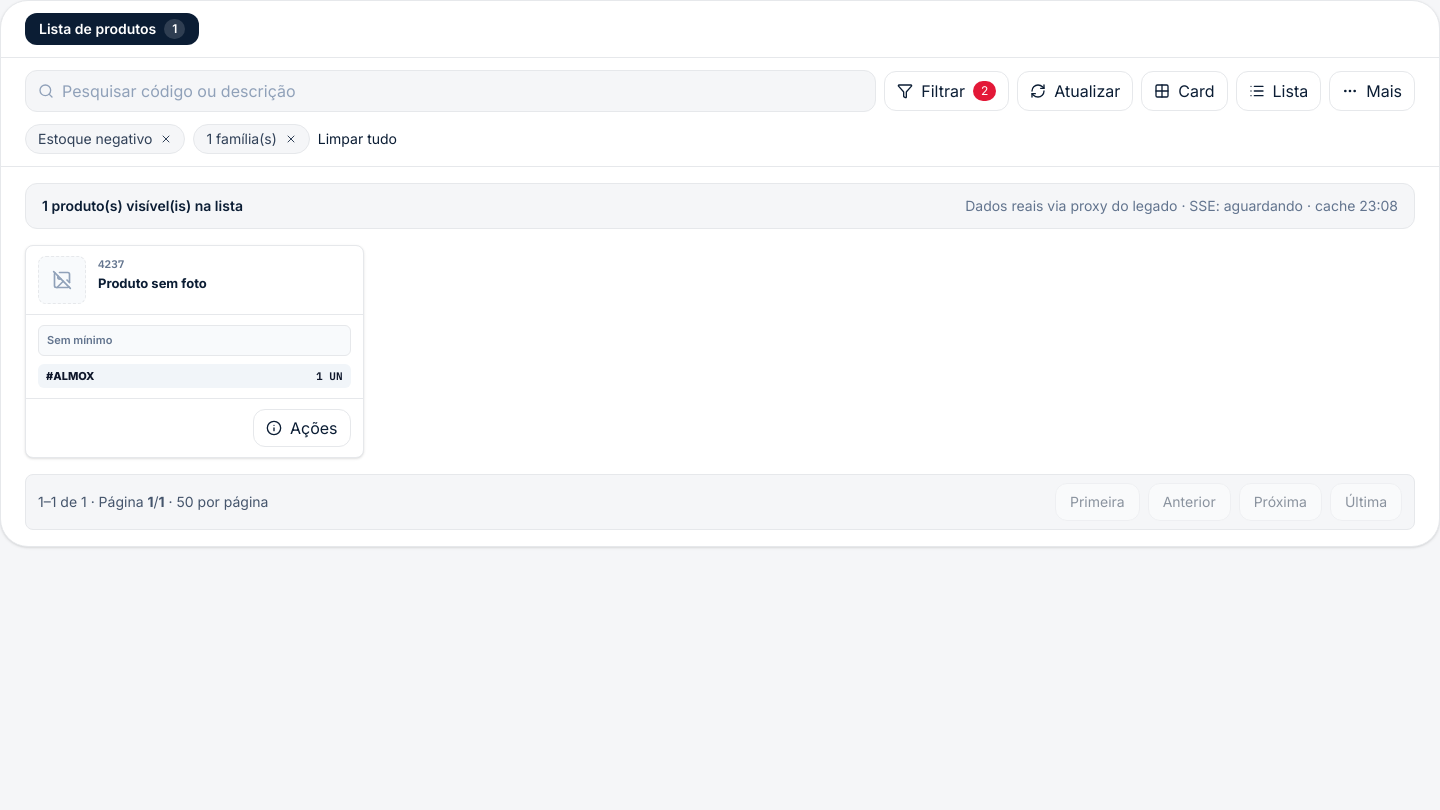
Scenario: ProductListScreen › clears draft filters without mutating applied filters before confirmation
Click the button with aria-label "filtrar produtos" at (947, 91), box x1=884 y1=71 x2=1009 y2=111
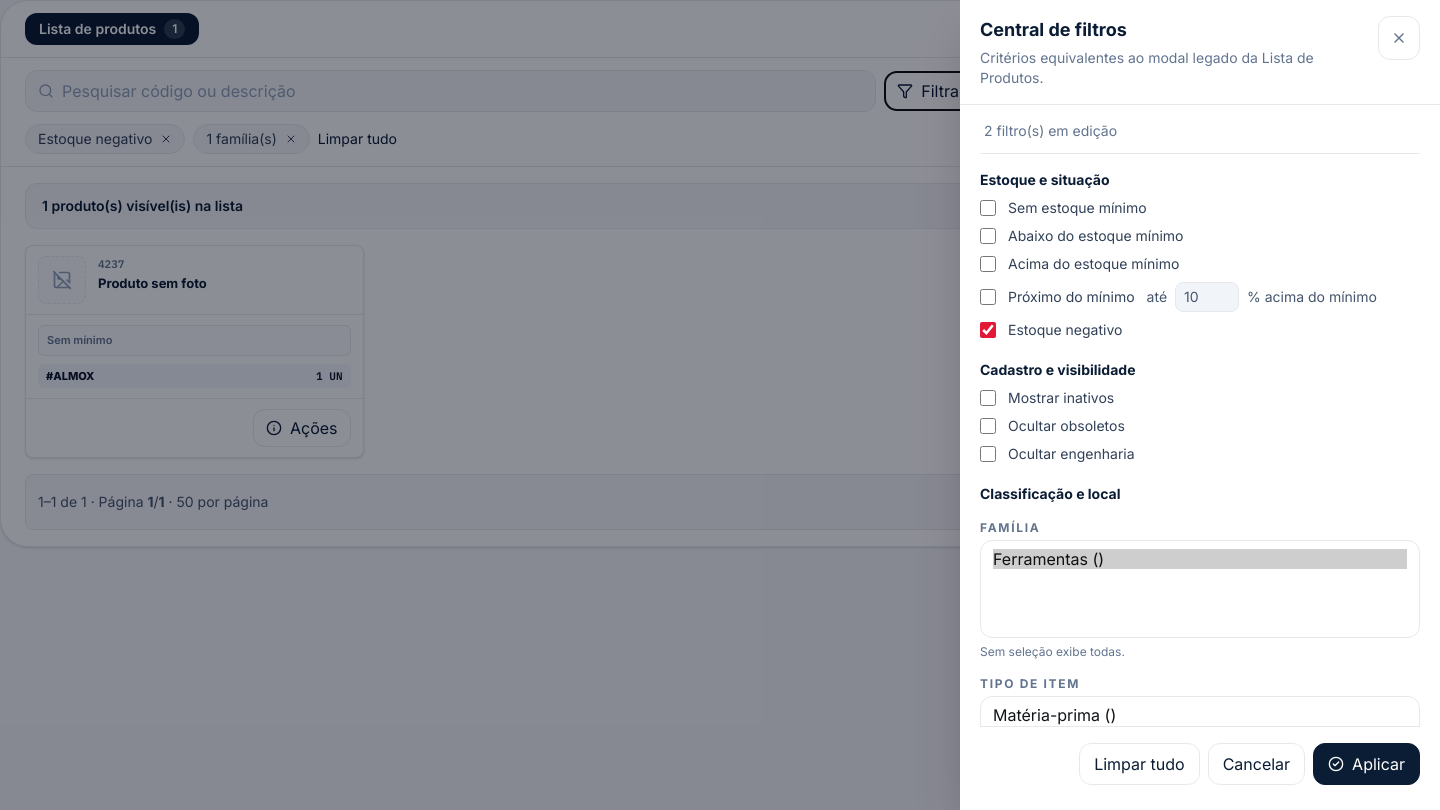
Click the button "Limpar tudo" at (1139, 764), box x1=1079 y1=743 x2=1200 y2=785
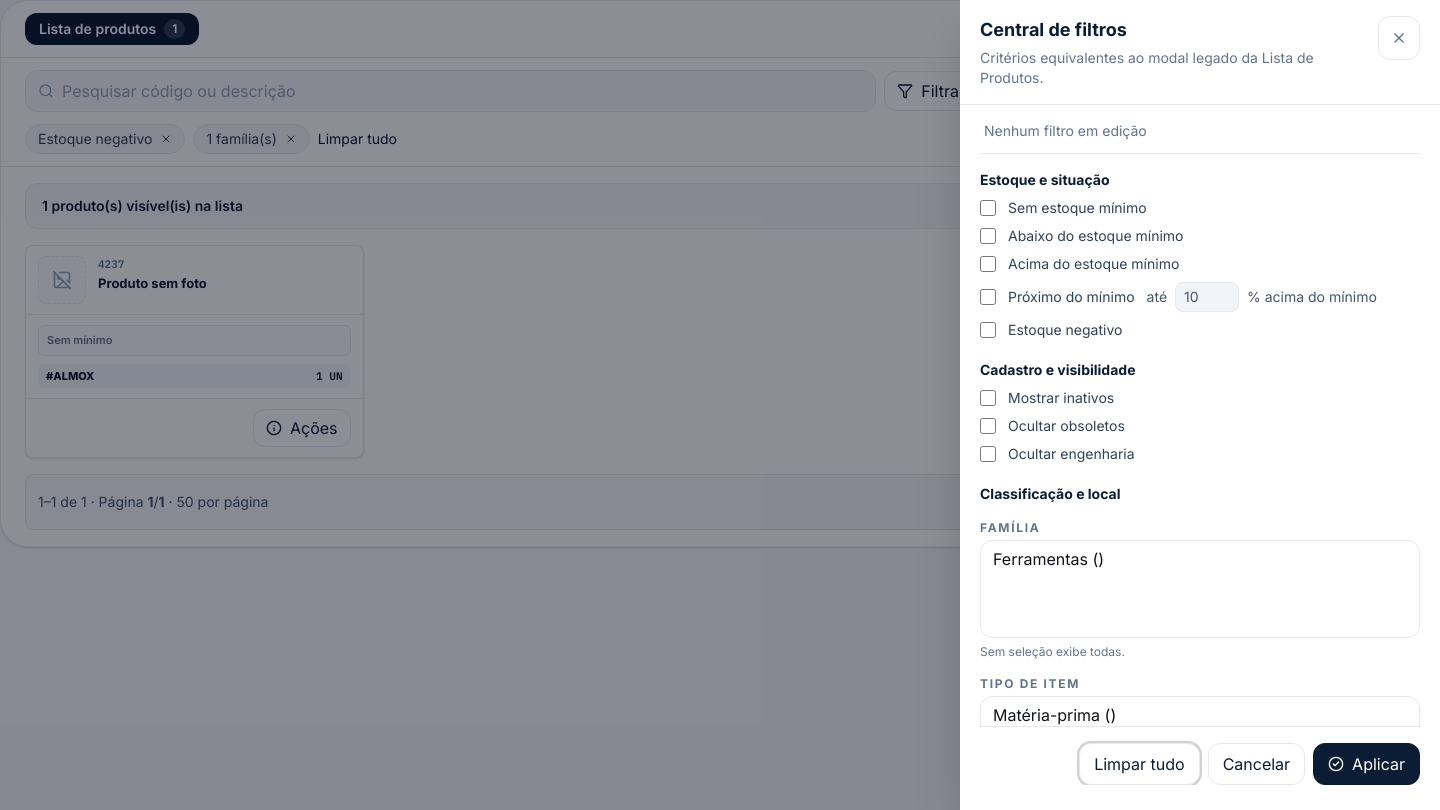
Result: the checkbox labelled "Estoque negativo" is not checked at x1=980 y1=322 x2=996 y2=338
Click the button "Cancelar" at (1256, 764), box x1=1208 y1=743 x2=1305 y2=785
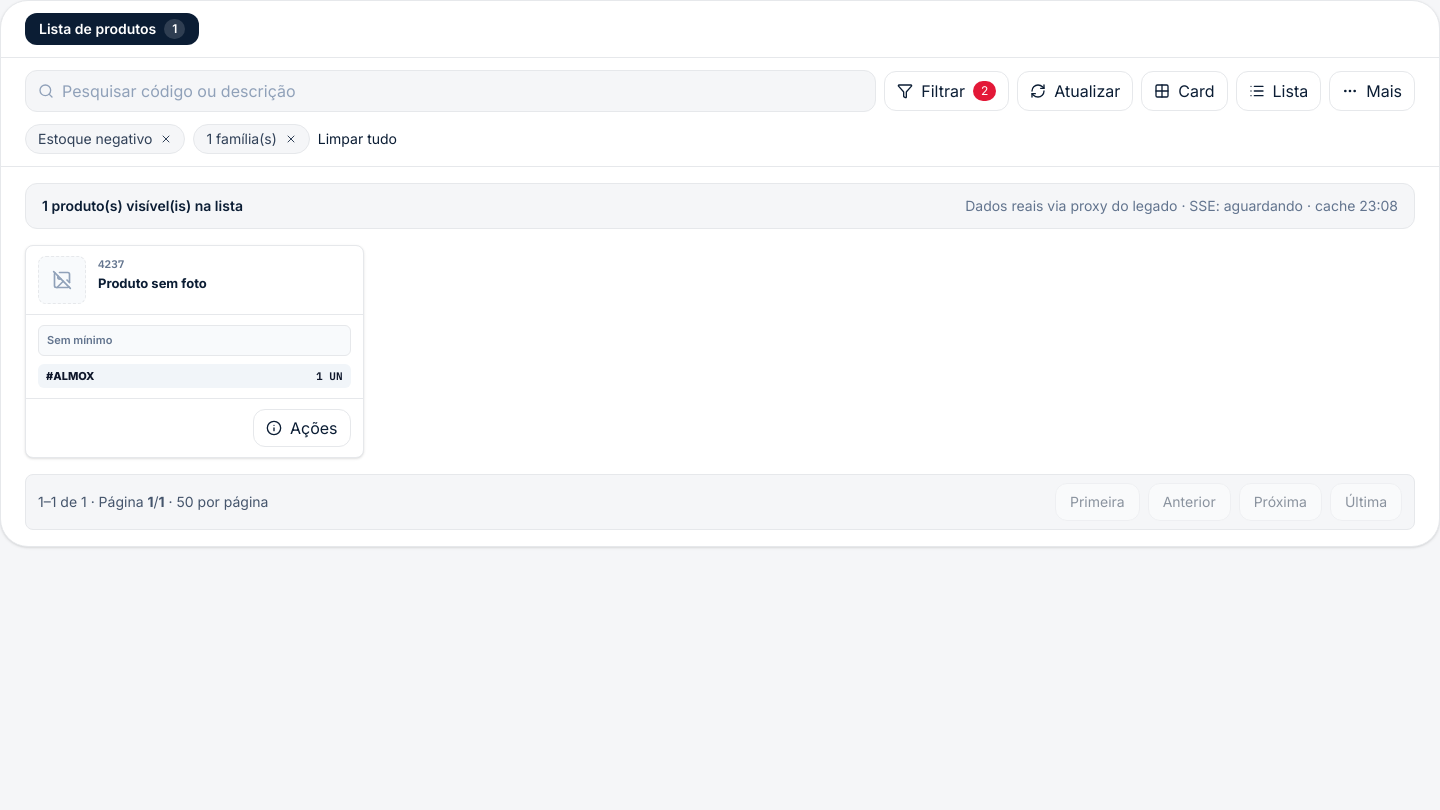
Click the button with aria-label "filtrar produtos" at (947, 91), box x1=884 y1=71 x2=1009 y2=111
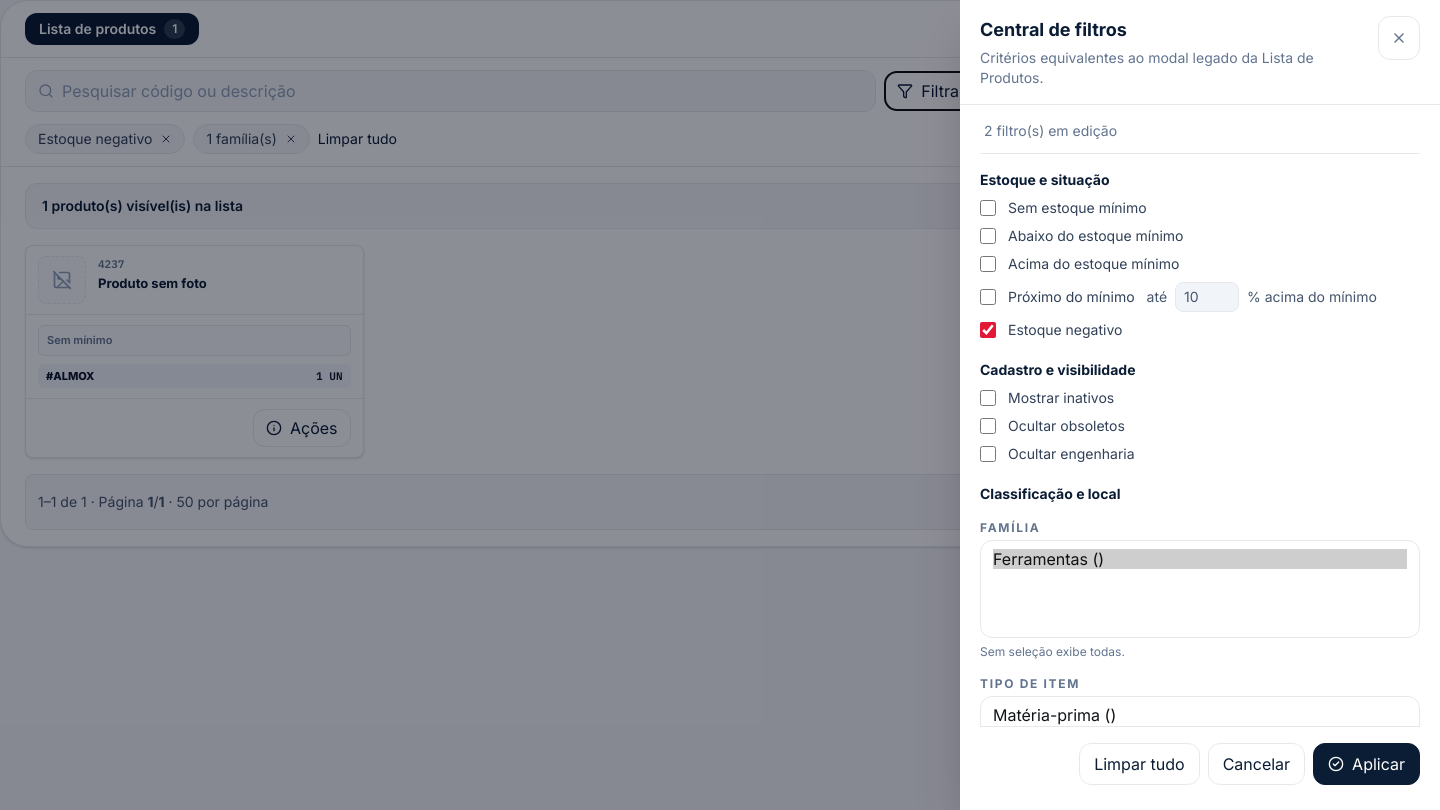
Result: the checkbox labelled "Estoque negativo" is checked at x1=980 y1=322 x2=996 y2=338
